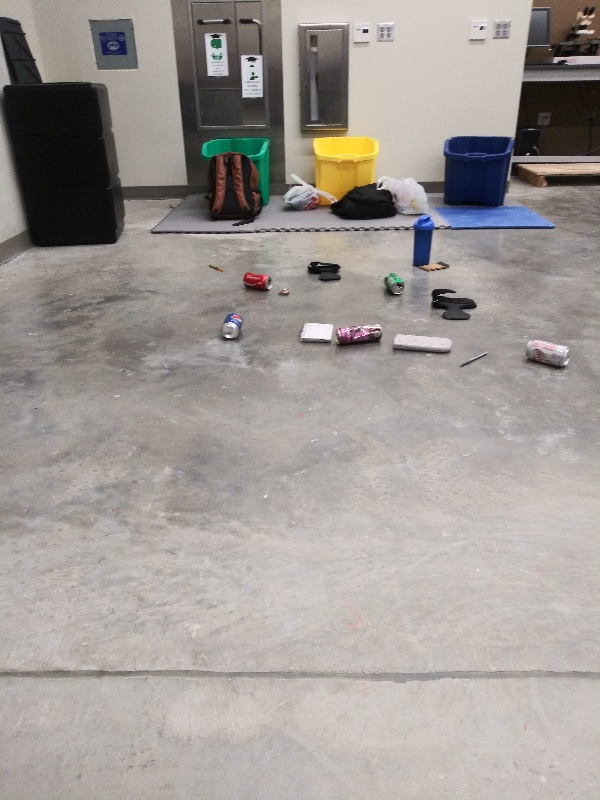can: (519, 334, 575, 369), (329, 322, 386, 349), (218, 312, 250, 340), (381, 266, 407, 296), (239, 269, 276, 290)
